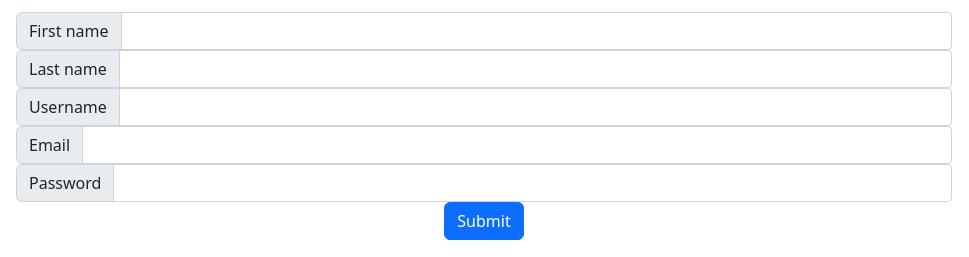
Test case: Should Verify Create Driver Render
The image size is (969, 257).
What coordinates should you click on to do the following:
click the button with test id "driver-create-button"
I would click on:
 (484, 221)
Its box is [444, 202, 524, 240].
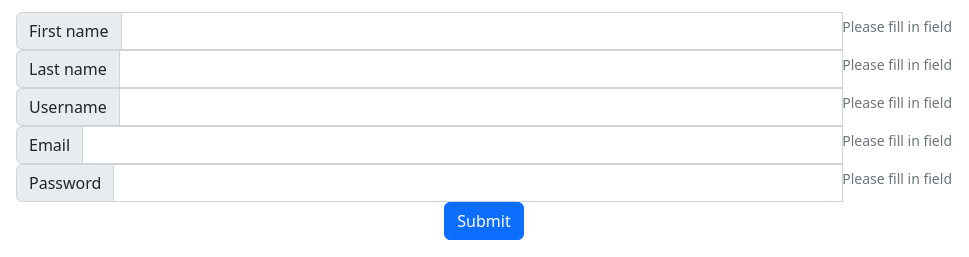
expect the text with test id "firstNameVal" reads "Please fill in field": met, box [842, 17, 952, 36]
expect the text with test id "lastNameVal" reads "Please fill in field": met, box [842, 55, 952, 74]
expect the text with test id "usernameVal" reads "Please fill in field": met, box [842, 93, 952, 112]
